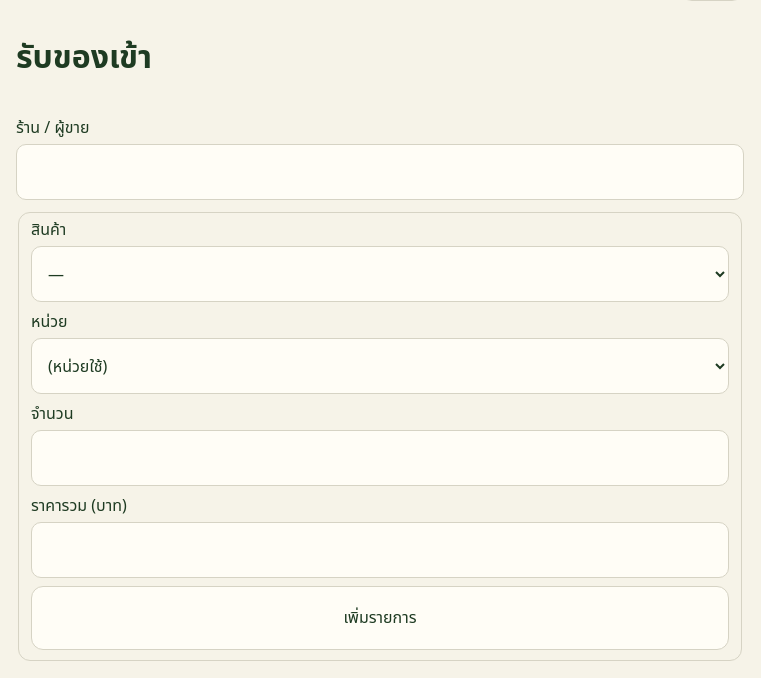
it: ReceiveScreen — m-3 (Task 4 review, carried into Task 9): acceptPriceJump is a single flag for the whole receipt; any line edit after a confirm must reset it › removing the jumping line clears the PRICE_JUMP confirm immediately, without a new save press
Select "ชาเอ (RM-A)" in the dropdown with test id "receive-item" at (380, 274), box [31,246,729,302]
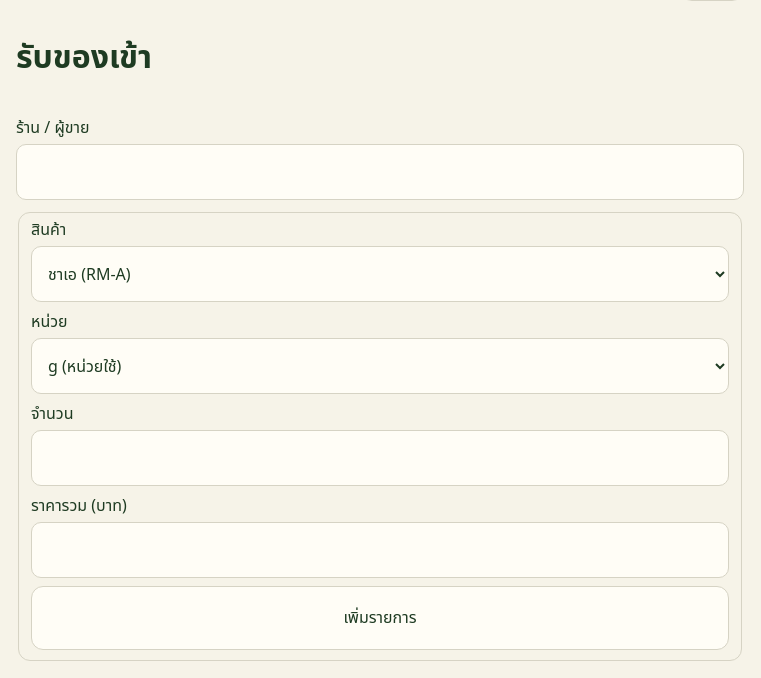
Type "1" into the field with test id "receive-qty" at (380, 458), box [31,430,729,486]
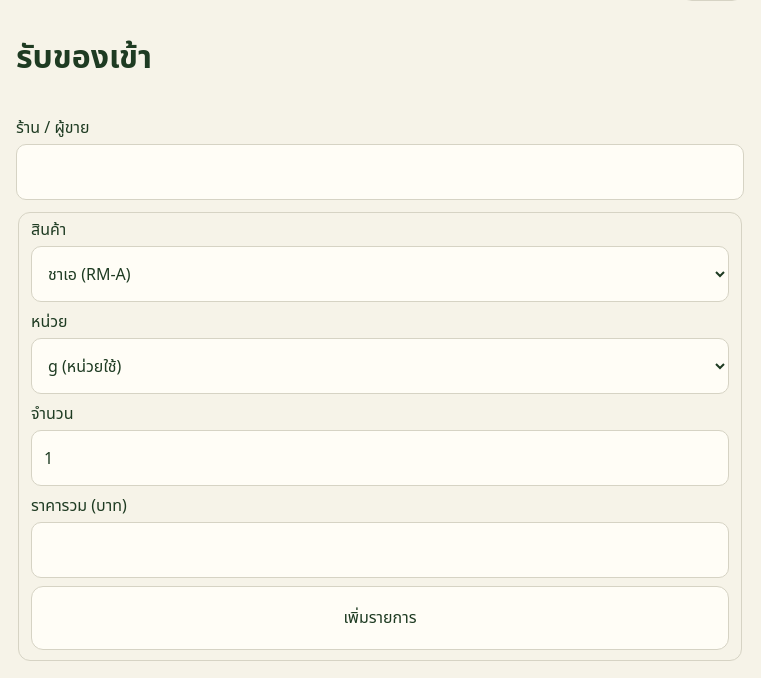
Type "0.12" into the field with test id "receive-total" at (380, 550), box [31,522,729,578]
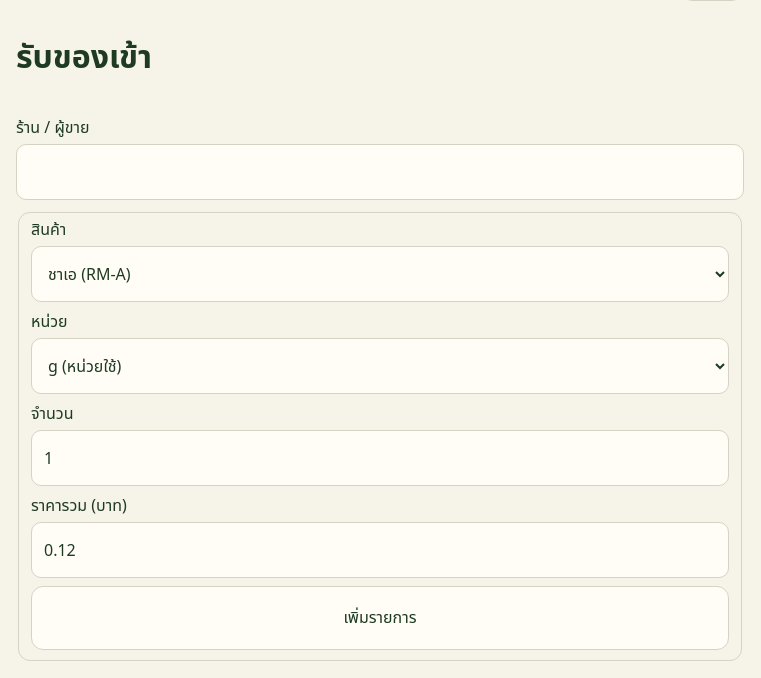
Click the button with test id "receive-add" at (380, 618), box [31,586,729,650]
(page scrolled)
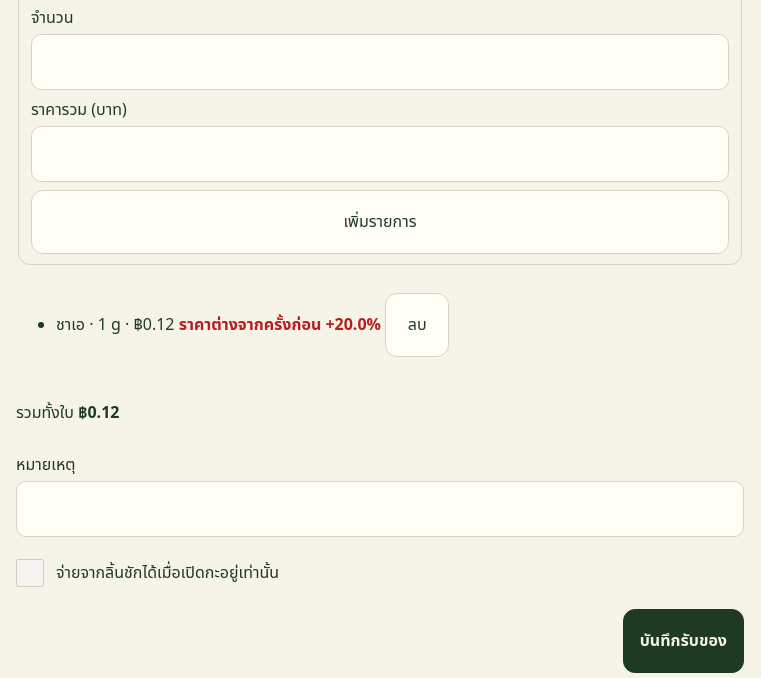
Check: the text "ราคาต่างจากครั้งก่อน +20.0%" is shown, box [179,314,381,336]
Click the button with test id "receive-save" at (683, 642), box [623,610,744,674]
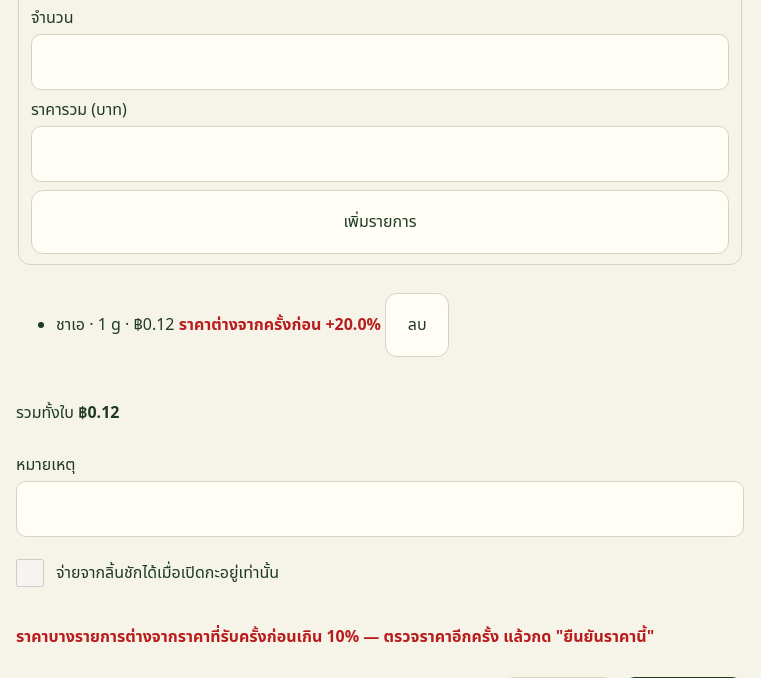
Check: the message with test id "receive-price-jump" is shown, box [16,626,744,650]
Click the button with test id "receive-remove-0" at (417, 326), box [385,294,449,358]
(page scrolled)
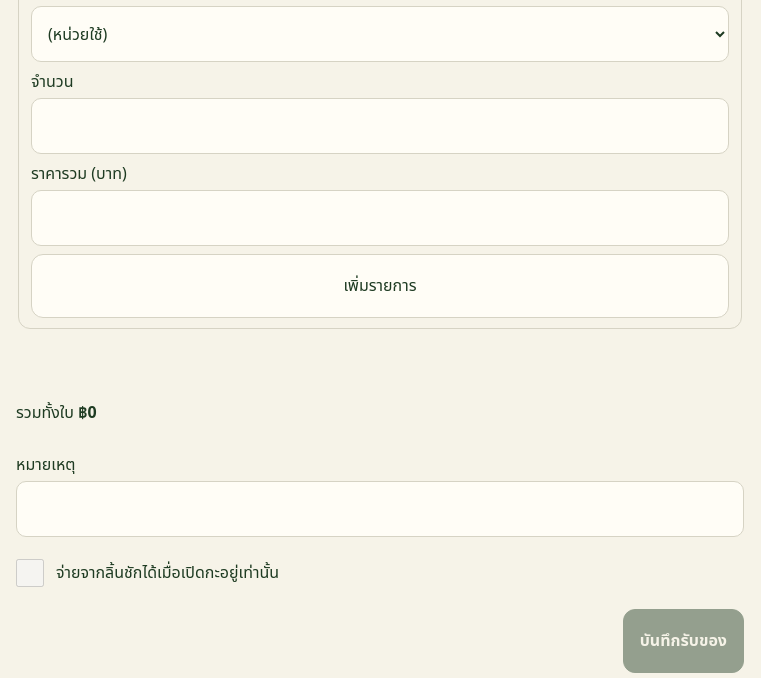
Check: the message with test id "receive-price-jump" is gone
